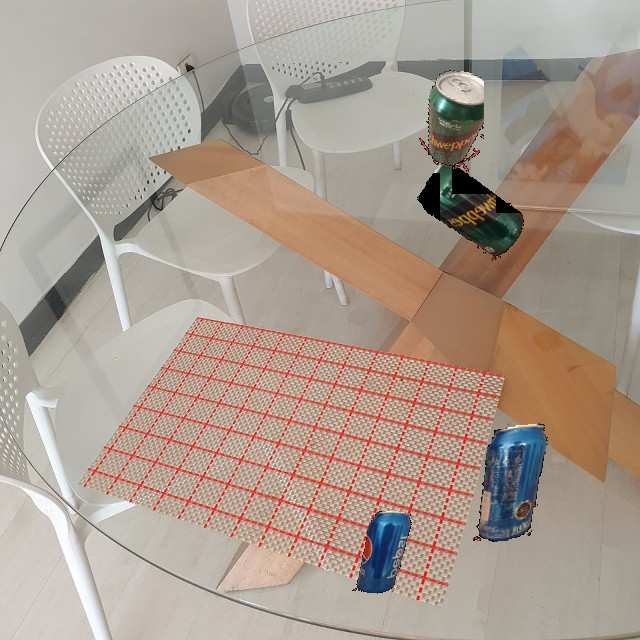pepsi: (473, 423, 550, 543), (352, 511, 415, 594)
schweppes: (414, 158, 532, 264), (415, 66, 484, 173)
